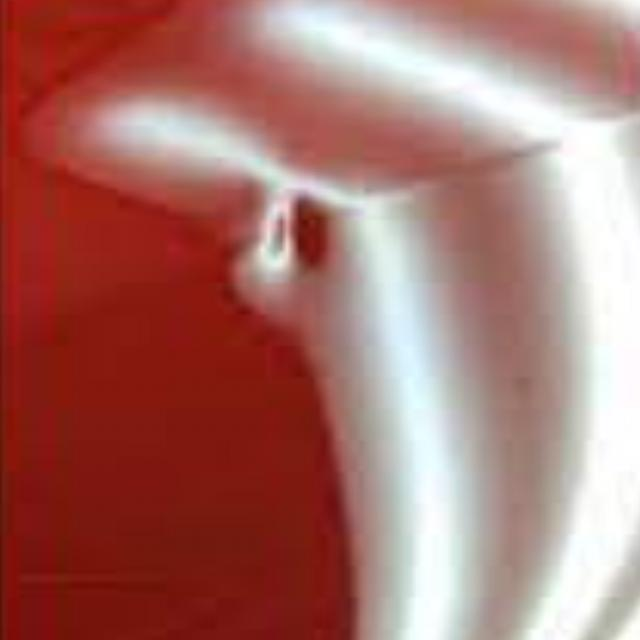dents: (220, 175, 394, 328)
